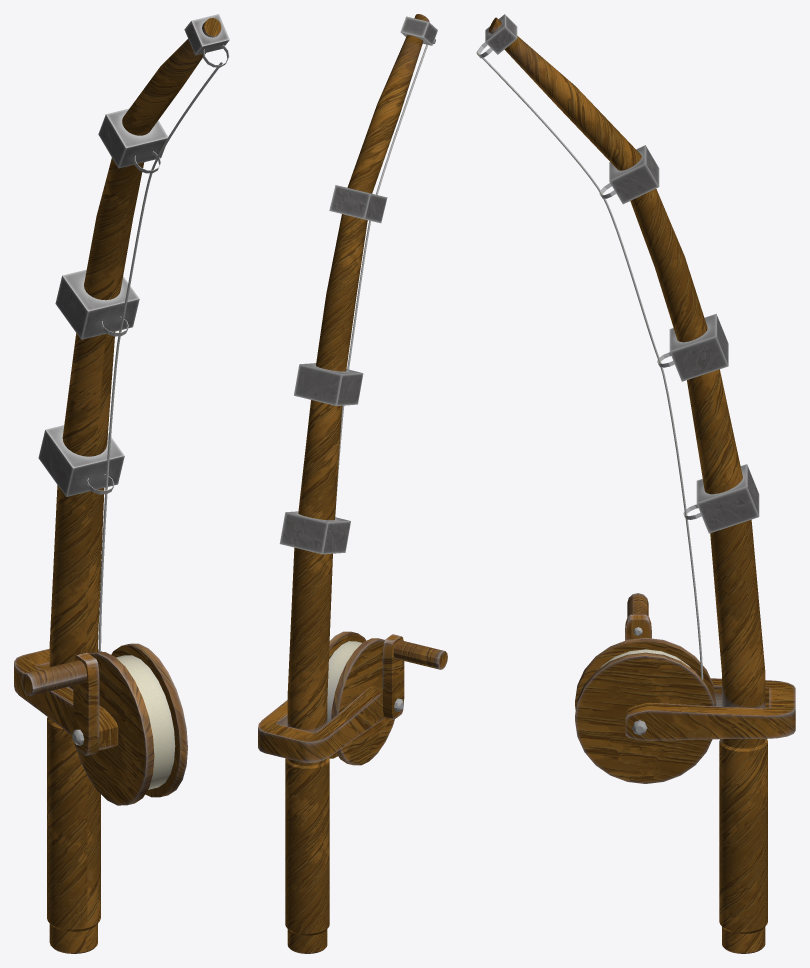
The model's file is Rod2.fbx.
3 renders of one model, left to right at view 1: azimuth 30°, elevation 25°; view 2: azimuth 150°, elevation 25°; view 3: azimuth 270°, elevation 25°, orthographic. The views are drawn at different scales.
Parts seen in each view (by area): view 1: BézierCurve; view 2: BézierCurve; view 3: BézierCurve.
Boxes of the visible parts, box(x1,y1,x2,y2) form: BézierCurve: box(14, 14, 229, 953); BézierCurve: box(258, 14, 447, 953); BézierCurve: box(476, 14, 795, 953).
Bounding box in the file's own units: 107 × 687 × 215.
